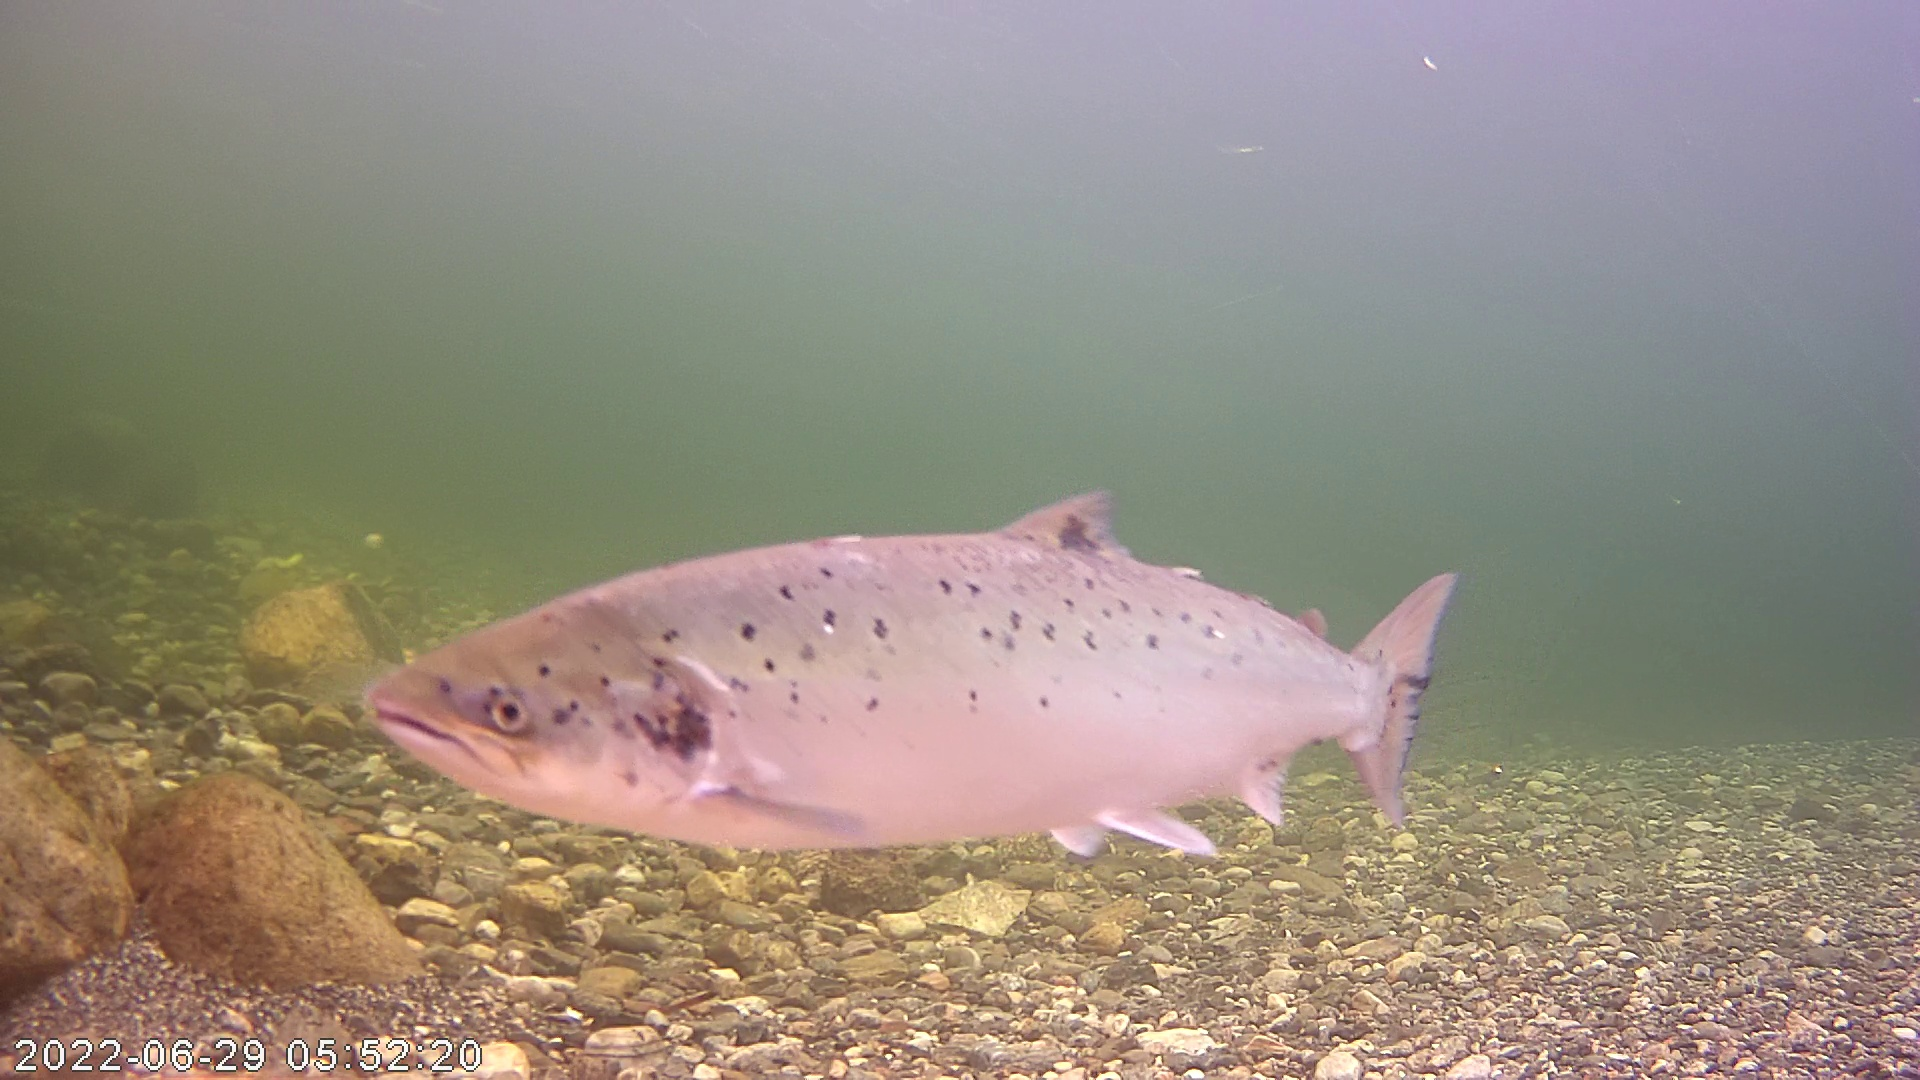salmon: (376, 392, 1449, 862)
